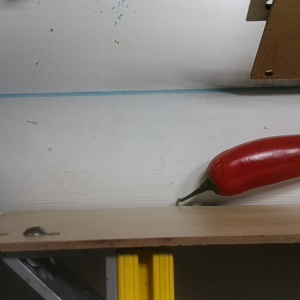Cut Point: (197, 159, 230, 201)
